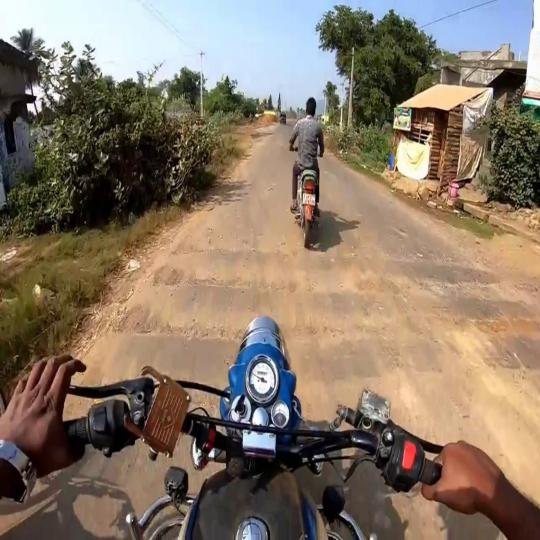Speed Bump: (129, 281, 538, 324), (156, 248, 500, 290), (285, 335, 540, 388), (90, 330, 230, 384)
